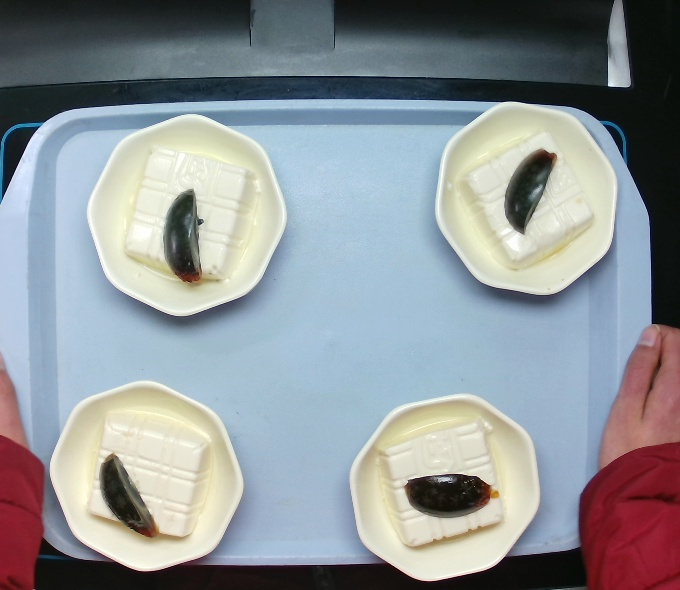wcq-PiDanDouFu: (120, 137, 260, 286), (370, 409, 512, 552), (461, 124, 596, 270), (82, 410, 209, 546)
